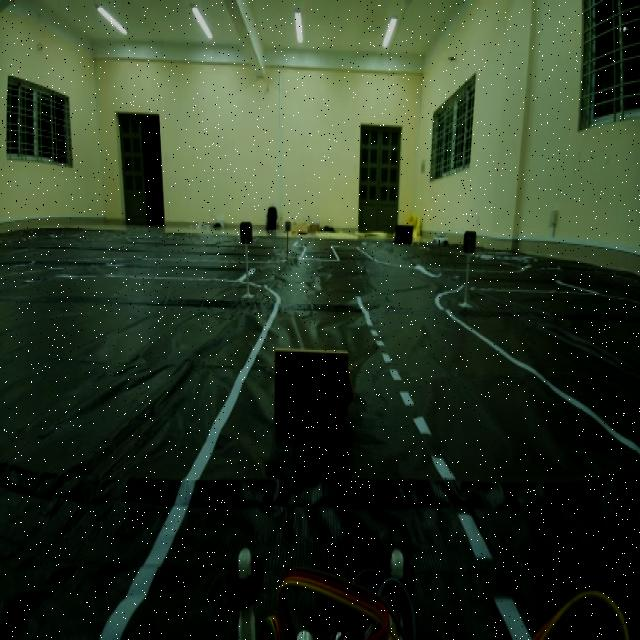roadblock: (268, 335, 361, 444)
